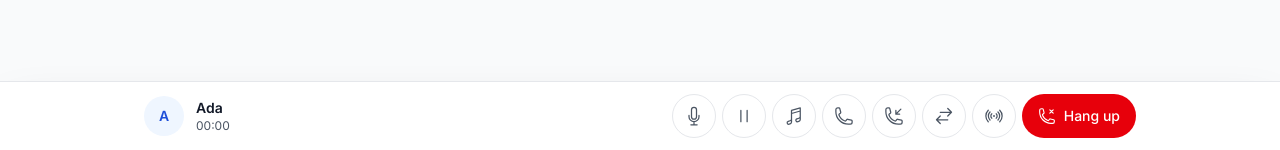
Scenario: ActiveCallBar — süpervizör izleme (admin korumalı) › admin için monitor butonu görünür ve izleme panelini açar
The width and height of the screenshot is (1280, 150).
Click the button named "Monitor" at (994, 116), box [972, 94, 1016, 138]
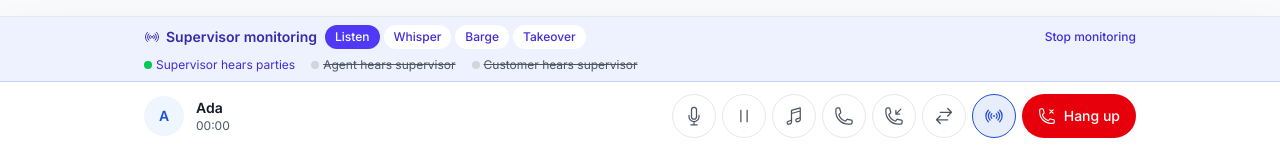
Expected: the text "Supervisor monitoring" is shown, [144, 27, 317, 47]
